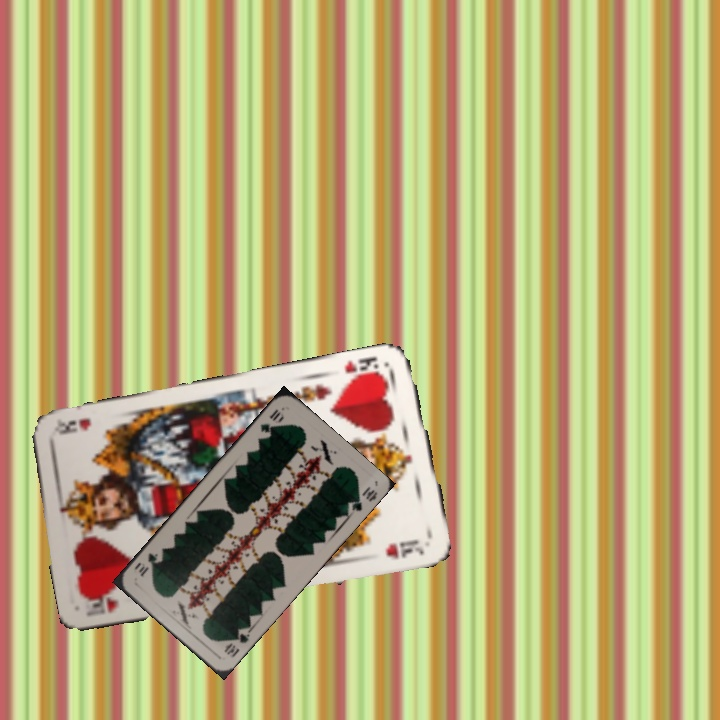G10: (220, 624, 253, 660), (256, 405, 286, 436)
HK: (339, 353, 385, 386), (84, 594, 122, 619)
